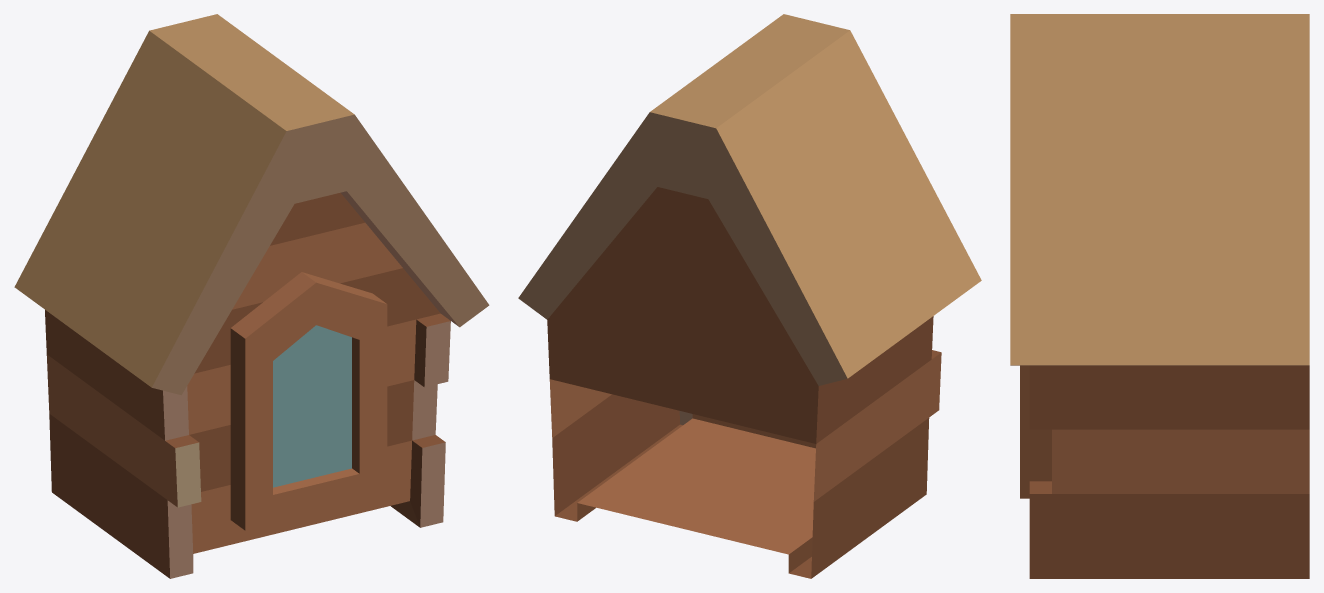
Rendered from TB_Bd_SW_Window.FBX.
The picture shows the model from 3 angles, left to right: view 1: azimuth 30°, elevation 25°; view 2: azimuth 150°, elevation 25°; view 3: azimuth 270°, elevation 25°; orthographic projection. The views are drawn at different scales.
Parts seen in each view (by area): view 1: TB_Bd_SW_Window; view 2: TB_Bd_SW_Window; view 3: TB_Bd_SW_Window.
Boxes of the visible parts, box(x1,y1,x2,y2) form: TB_Bd_SW_Window: box(14, 14, 489, 578); TB_Bd_SW_Window: box(518, 14, 981, 578); TB_Bd_SW_Window: box(1010, 14, 1309, 578).
Size of the model in its own units: 2.15 by 2.67 by 1.52.
